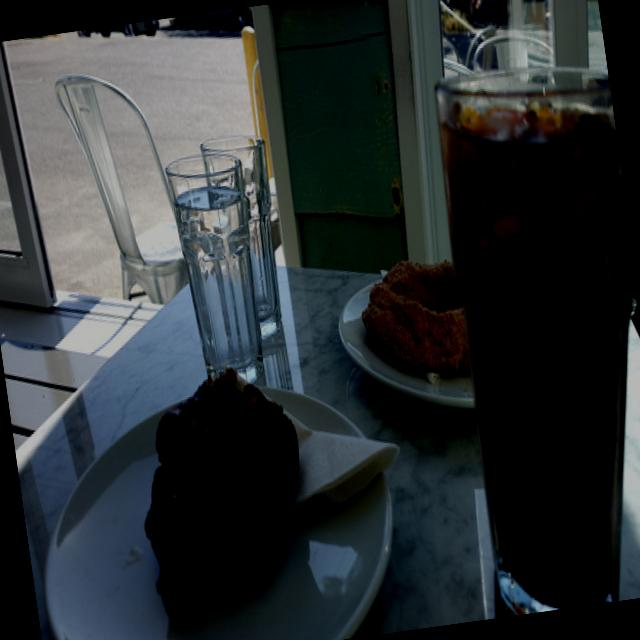Vehicle: (76, 20, 160, 44), (190, 7, 253, 36)
